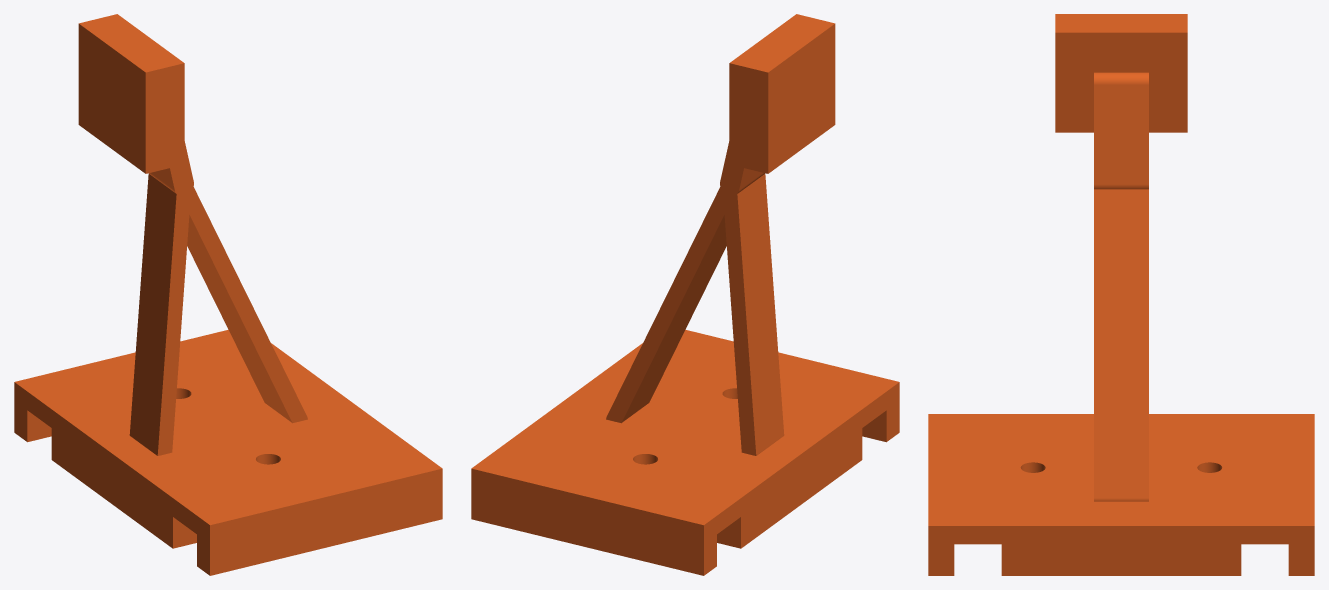
Rendered from 08-right.glb.
3 renders of one model, left to right at view 1: azimuth 30°, elevation 25°; view 2: azimuth 150°, elevation 25°; view 3: azimuth 270°, elevation 25°, orthographic.
Visible parts, largest first — view 1: right_solid; view 2: right_solid; view 3: right_solid.
Boxes of the visible parts, x1,y1,x2,y2 form: right_solid: [14, 14, 442, 575]; right_solid: [471, 14, 899, 575]; right_solid: [928, 14, 1314, 575].
Bounding box in the file's own units: 48 × 90 × 70.
